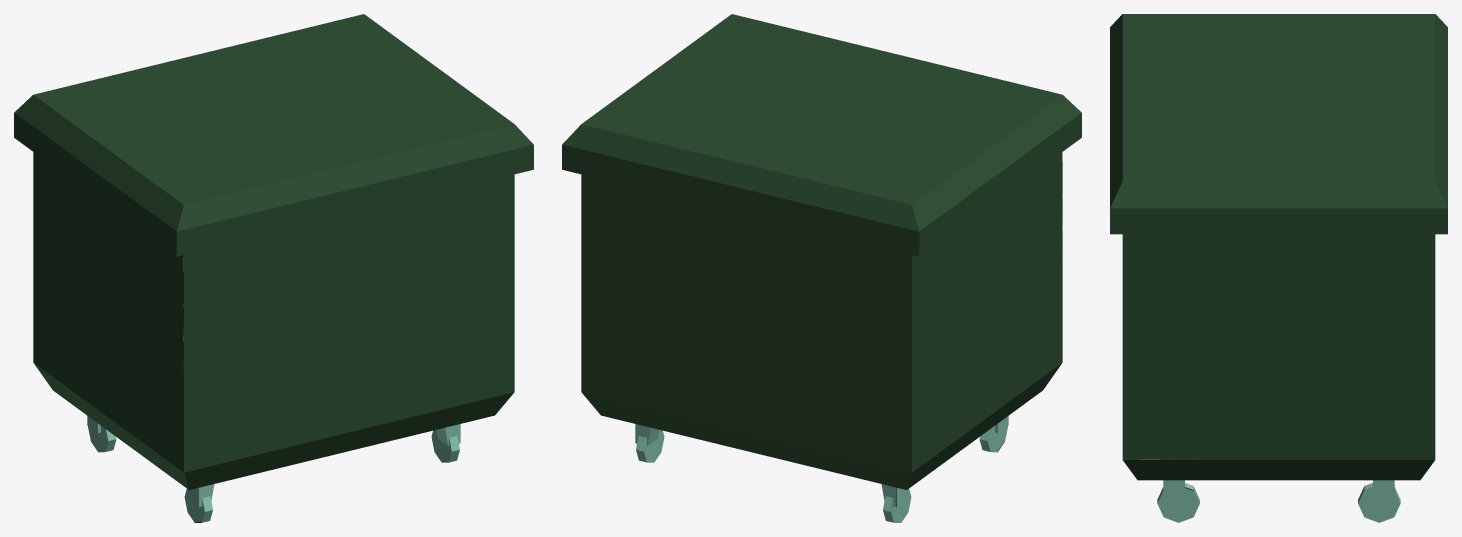
The model's file is TrashContainer.fbx.
The picture shows the model from 3 angles, left to right: view 1: azimuth 30°, elevation 25°; view 2: azimuth 150°, elevation 25°; view 3: azimuth 270°, elevation 25°; orthographic projection. The views are drawn at different scales.
Visible parts, largest first — view 1: Cube; view 2: Cube; view 3: Cube.
Boxes of the visible parts, x1=… form: Cube: x1=14, y1=14, x2=533, y2=522; Cube: x1=562, y1=14, x2=1081, y2=522; Cube: x1=1110, y1=14, x2=1447, y2=522.
Size of the model in its own units: 162 by 150 by 128.
